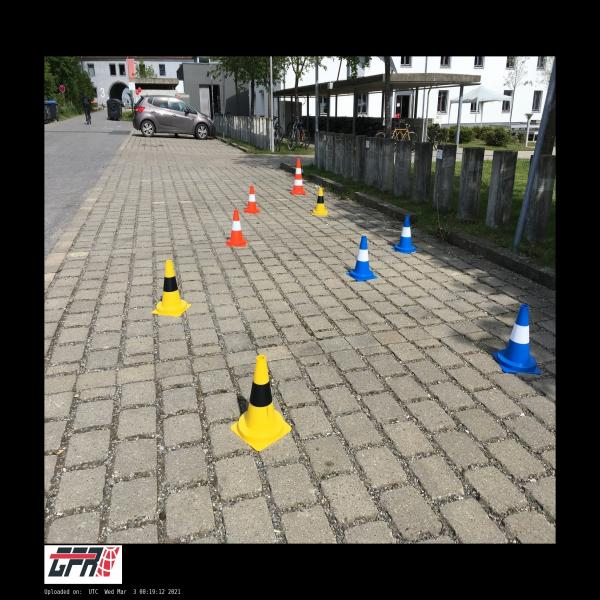blue_cone: (493, 305, 541, 374), (346, 236, 378, 281), (392, 215, 418, 254)
large_orange_cone: (290, 158, 306, 195)
orange_cone: (226, 210, 247, 247), (243, 186, 261, 213)
yellow_cone: (230, 355, 292, 451), (151, 260, 191, 317), (313, 188, 328, 215)
